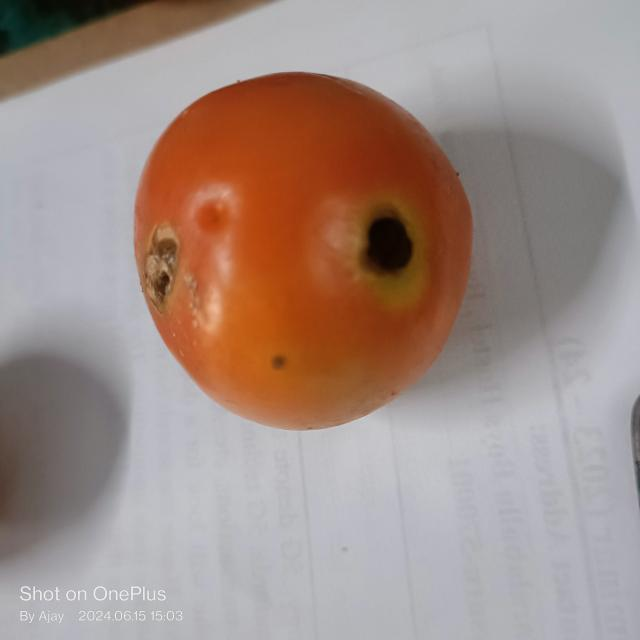fruitworm_bore: (349, 205, 418, 281), (134, 219, 176, 311)
